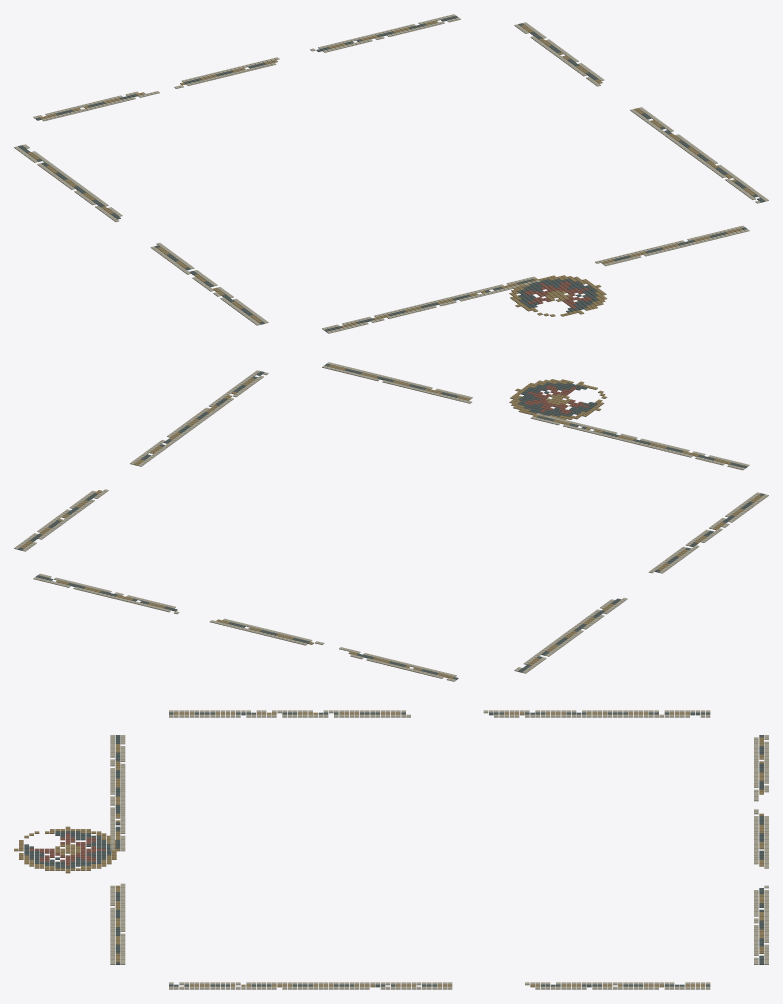
Rendered from ceremonial_mosaic.glb.
3 views of the same model, one above another, from view 1: azimuth 30°, elevation 25°; view 2: azimuth 150°, elevation 25°; view 3: azimuth 270°, elevation 25° (orthographic). The views are drawn at different scales.
Visible parts, largest first — view 1: Tessera limestone, Tessera ochre, Tessera slate, Tessera oxide; view 2: Tessera limestone, Tessera ochre, Tessera slate, Tessera oxide; view 3: Tessera limestone, Tessera ochre, Tessera slate, Tessera oxide.
Part boxes in pixels (<box>): Tessera limestone: <box>14,14,768,333</box>; Tessera ochre: <box>27,20,755,327</box>; Tessera slate: <box>18,16,764,331</box>; Tessera oxide: <box>524,281,592,308</box>; Tessera limestone: <box>14,362,768,681</box>; Tessera ochre: <box>20,365,762,678</box>; Tessera slate: <box>18,364,764,679</box>; Tessera oxide: <box>524,385,589,414</box>; Tessera limestone: <box>110,710,768,989</box>; Tessera ochre: <box>14,712,763,987</box>; Tessera slate: <box>24,712,763,987</box>; Tessera oxide: <box>29,833,106,865</box>.
Bounding box in the file's own units: 19.14 × 0.025 × 21.94.
